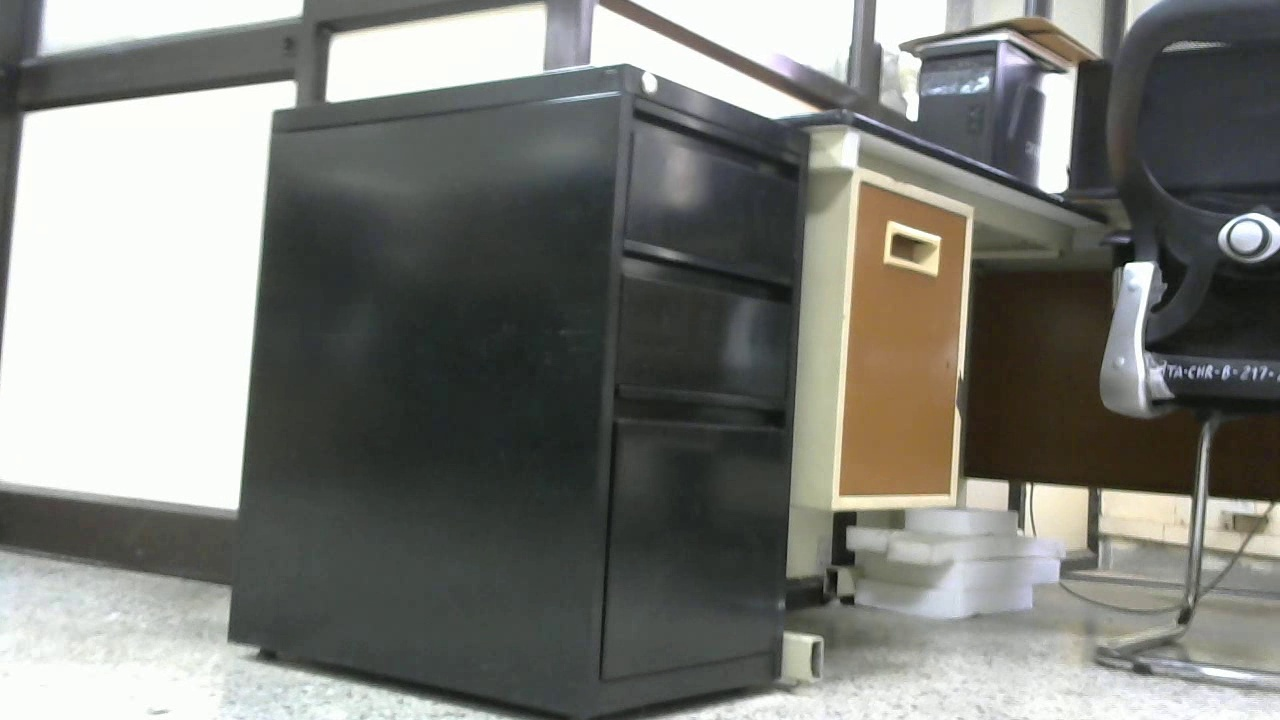chair: (1086, 5, 1280, 696)
